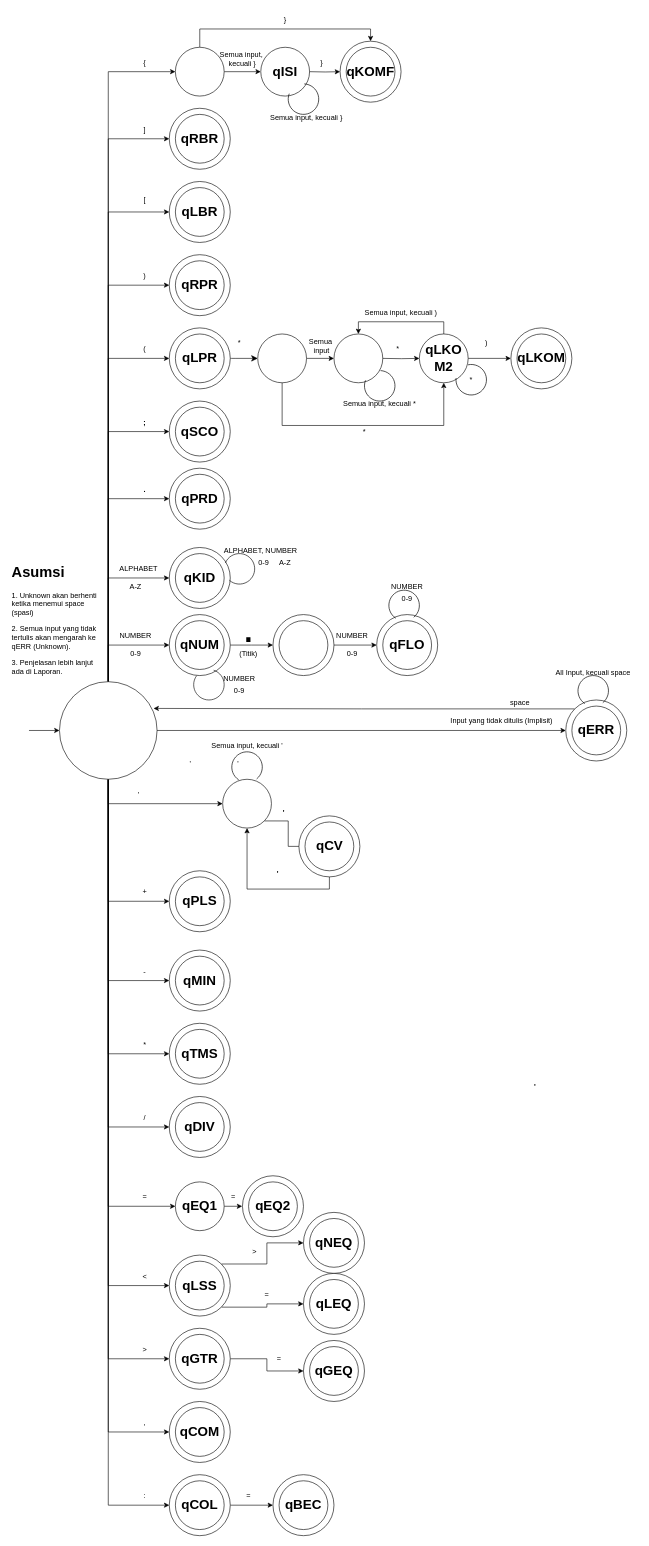
This 649x1546 diagram has some shape labels left out. The centre of each missing label's shape, as x and y in pixels:
q_start: (x=108, y=730)
qCS1: (x=246, y=803)
qDOT: (x=303, y=644)
qKOM: (x=199, y=71)
qLISI: (x=358, y=358)
qLKO M1: (x=282, y=358)
